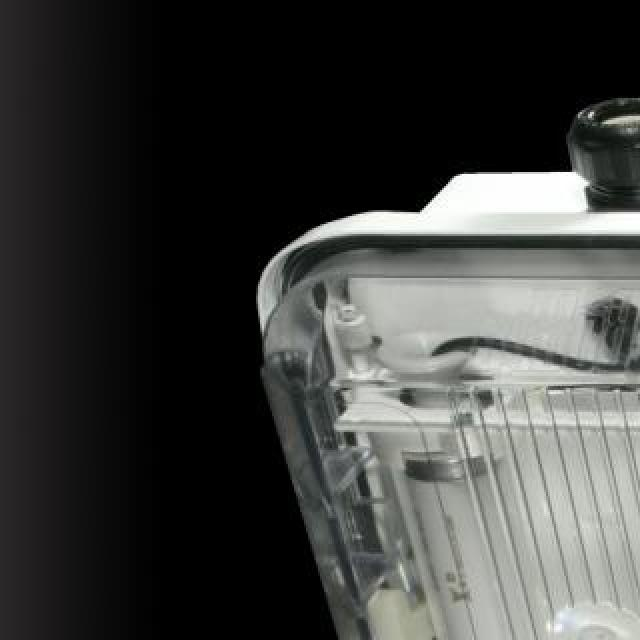fluorescent tube: (370, 416, 640, 640)
